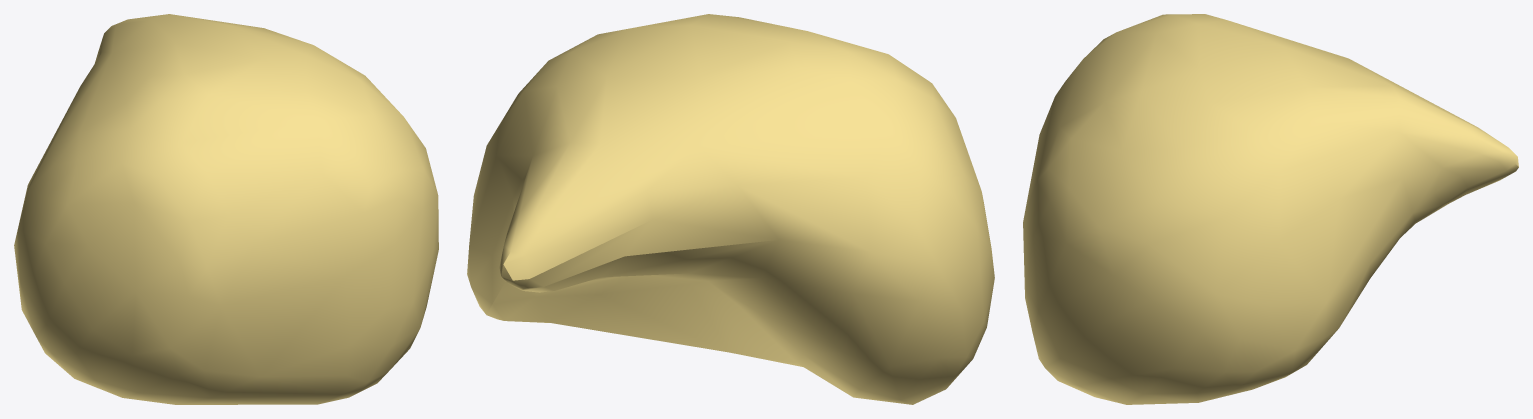
The model's file is fma72833_fj1753.glb.
3 renders of one model, left to right at view 1: azimuth 30°, elevation 25°; view 2: azimuth 150°, elevation 25°; view 3: azimuth 270°, elevation 25°, orthographic. The views are drawn at different scales.
Parts seen in each view (by area): view 1: FMA72833_FJ1753; view 2: FMA72833_FJ1753; view 3: FMA72833_FJ1753.
Boxes of the visible parts, box(x1,y1,x2,y2) form: FMA72833_FJ1753: box(14, 14, 438, 404); FMA72833_FJ1753: box(467, 14, 994, 404); FMA72833_FJ1753: box(1023, 14, 1518, 404).
Size of the model in its own units: 0.0171 by 0.0128 by 0.0183.
